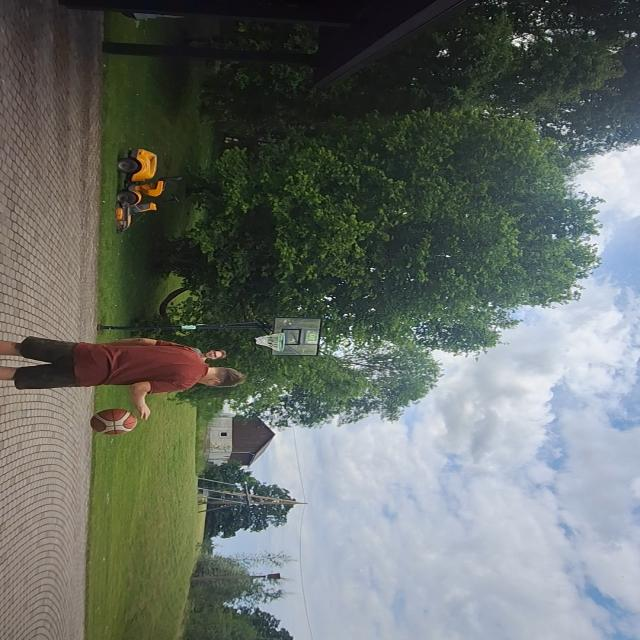ball: (92, 407, 139, 436)
hoop: (256, 332, 290, 351)
player: (0, 336, 242, 421), (190, 342, 234, 364)
